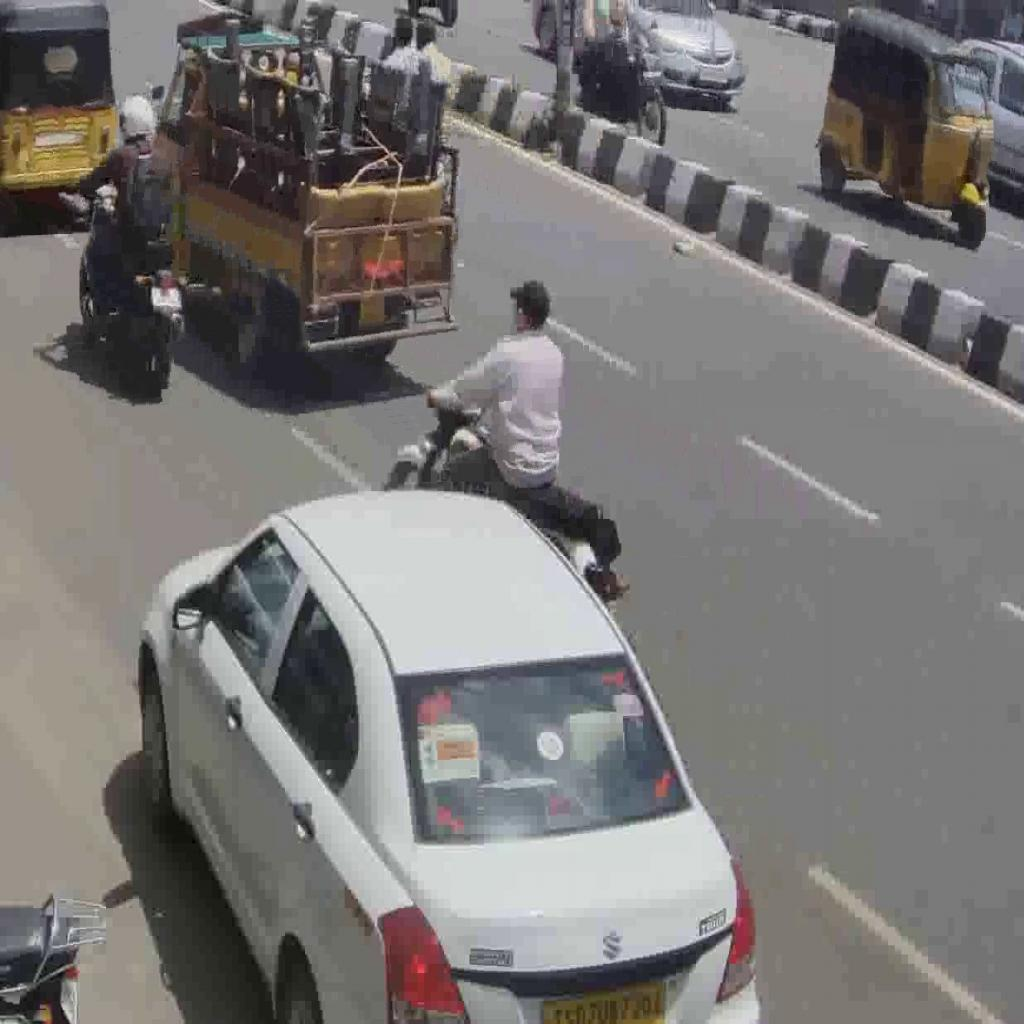helmet: (382, 378, 628, 618), (78, 168, 188, 400)
